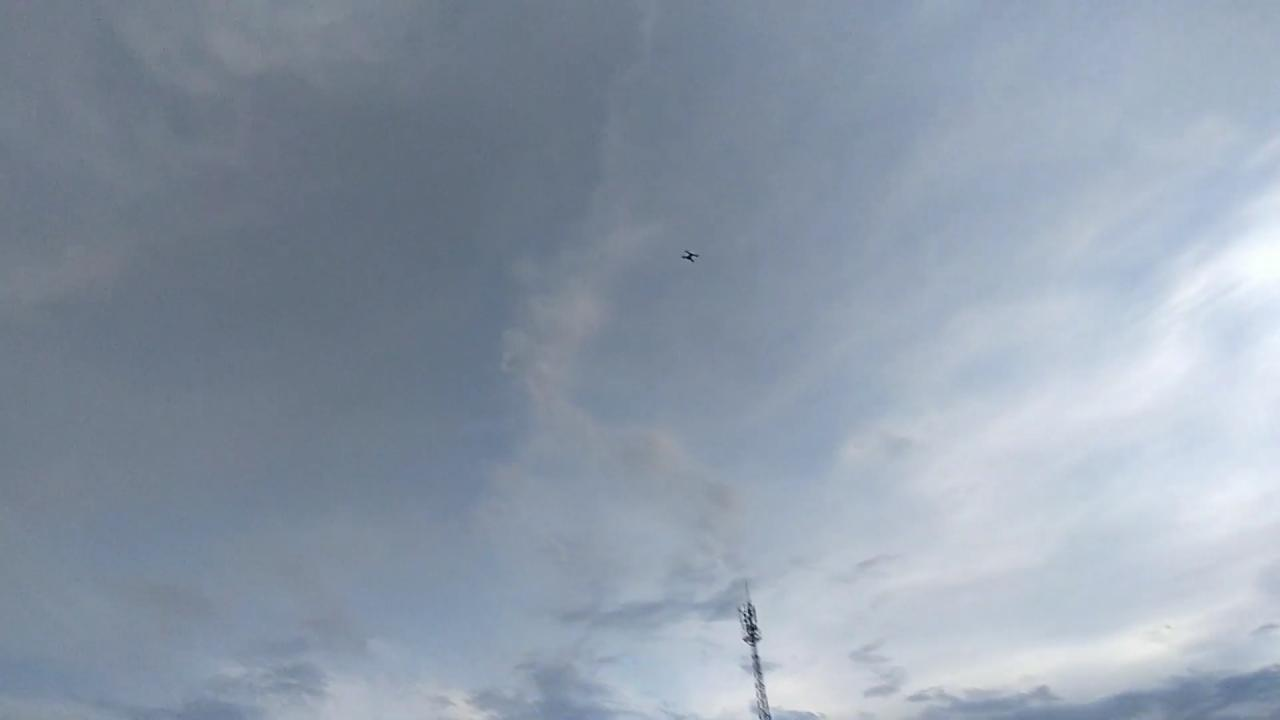Drone: (671, 241, 709, 272)
